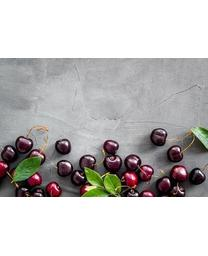cherry: (15, 135, 33, 156), (103, 155, 122, 174), (150, 127, 168, 147), (188, 167, 205, 187), (78, 154, 97, 171), (167, 145, 183, 163), (125, 155, 141, 173), (121, 173, 139, 189), (57, 160, 73, 176), (26, 170, 41, 187), (56, 138, 71, 154), (171, 168, 187, 183), (104, 139, 118, 155), (46, 181, 62, 194)
